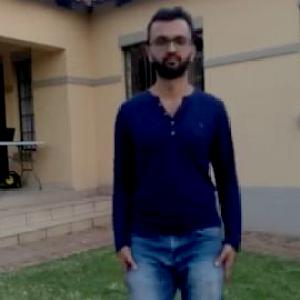follow: (108, 21, 228, 299)
